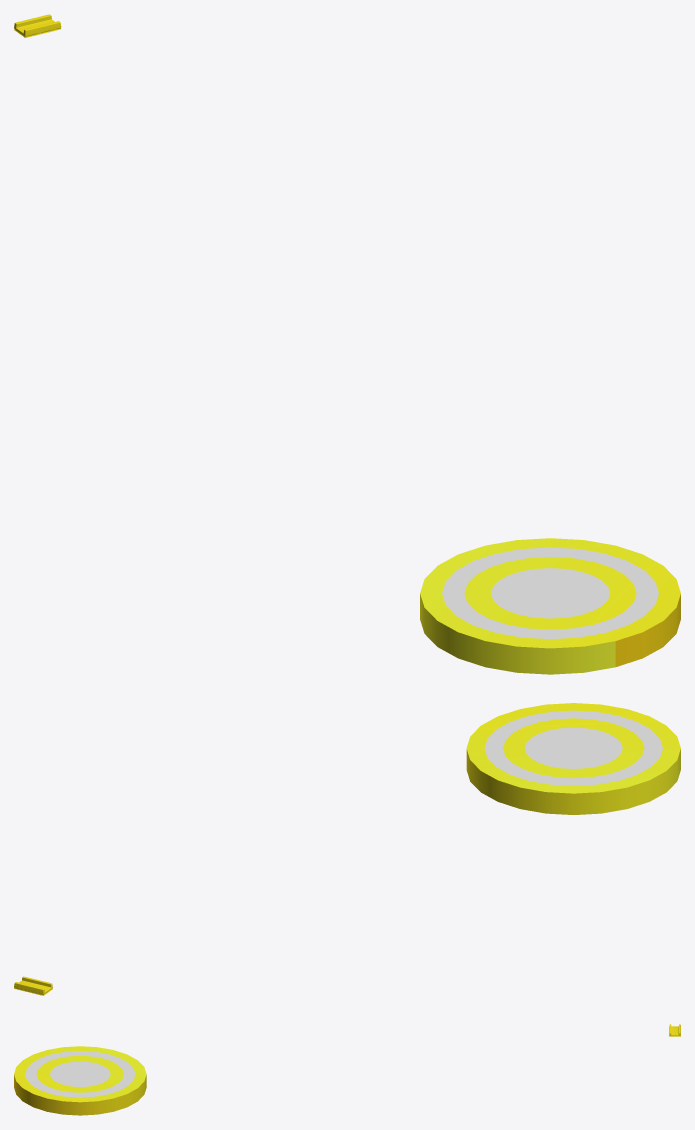
Rendered from roundbar (2).fbx.
3 renders of one model, top to bottom at view 1: azimuth 30°, elevation 25°; view 2: azimuth 150°, elevation 25°; view 3: azimuth 270°, elevation 25°, orthographic. The views are drawn at different scales.
Parts seen in each view (by area): view 1: Circle; view 2: Circle, Cube.008; view 3: Circle.
Boxes of the visible parts, x1,y1,x2,y2 form: Circle: [420, 538, 680, 674]; Circle: [466, 703, 680, 814]; Cube.008: [14, 976, 52, 995]; Circle: [14, 1046, 146, 1115].
Bounding box in the file's own units: 7938 × 5073 × 39913.
